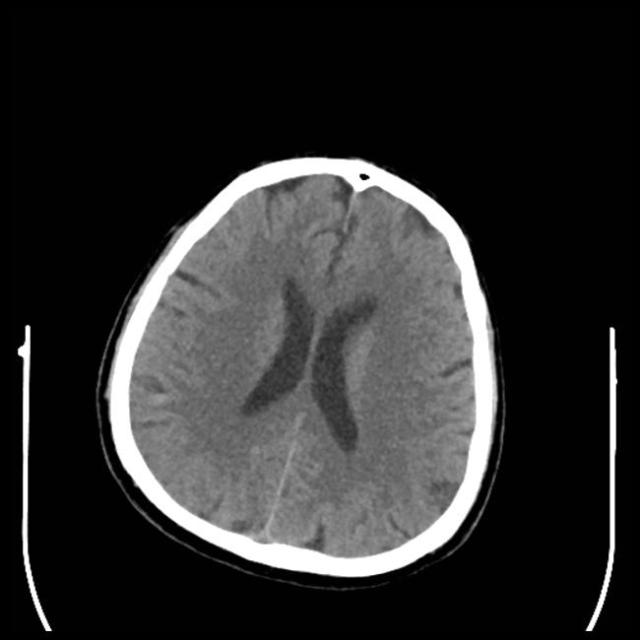lesion: (99, 153, 505, 578)
